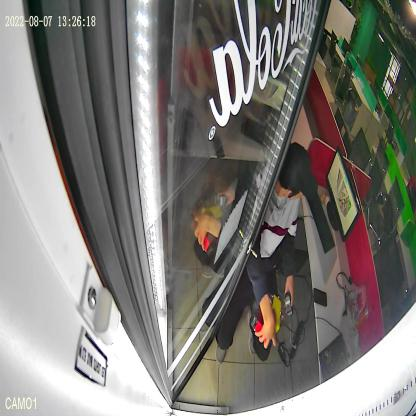red: (250, 301, 273, 347)
yellow: (266, 292, 284, 334)
